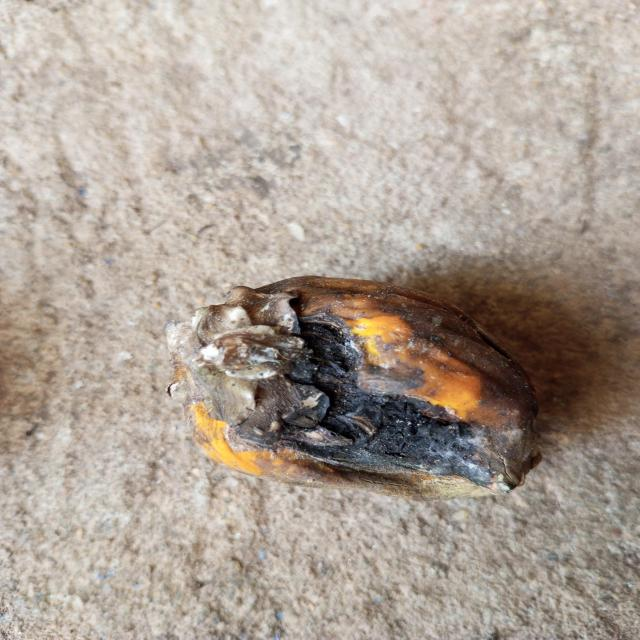damaged: (172, 276, 548, 500)
